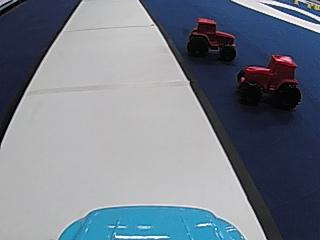Tracktor: (235, 51, 300, 108), (186, 15, 237, 60)
